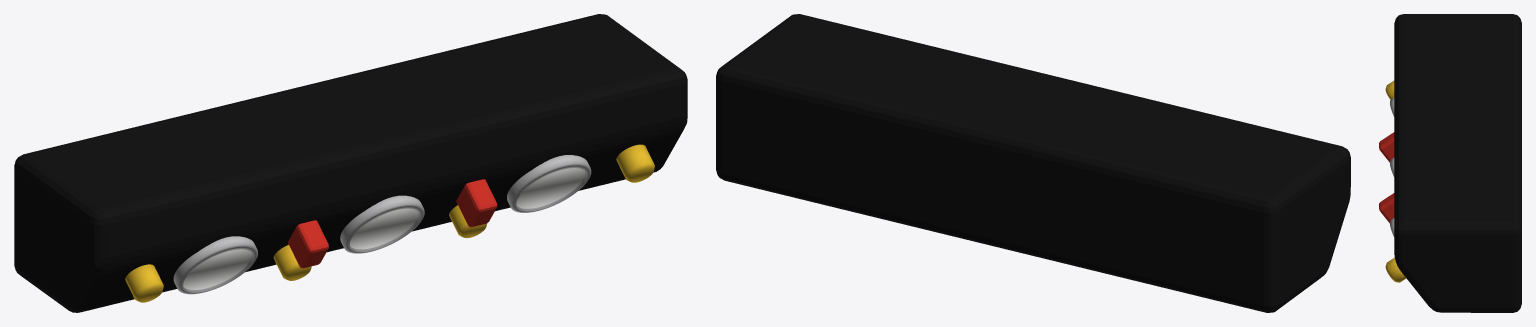
File: consola_techo_final.glb
The picture shows the model from 3 angles, left to right: view 1: azimuth 30°, elevation 25°; view 2: azimuth 150°, elevation 25°; view 3: azimuth 270°, elevation 25°; orthographic projection. The views are drawn at different scales.
Visible parts, largest first — view 1: SM_el, SM_u, SM_ratula, SM_arillo, SM_jo; view 2: SM_el; view 3: SM_el, SM_jo, SM_arillo, SM_u.
Boxes of the visible parts, bbox=[...] form: SM_el: bbox=[14, 14, 687, 312]; SM_u: bbox=[173, 155, 591, 294]; SM_ratula: bbox=[183, 168, 585, 289]; SM_arillo: bbox=[125, 144, 654, 302]; SM_jo: bbox=[288, 179, 497, 268]; SM_el: bbox=[716, 14, 1350, 312]; SM_el: bbox=[1394, 14, 1521, 312]; SM_jo: bbox=[1379, 132, 1394, 223]; SM_arillo: bbox=[1385, 80, 1406, 282]; SM_u: bbox=[1390, 97, 1394, 237].
Bounding box in the file's own units: 0.34 × 0.0682 × 0.0953.
Materials: 5 (5 with a texture image).
